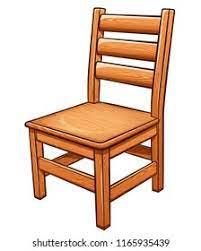chair: (19, 3, 178, 227)
